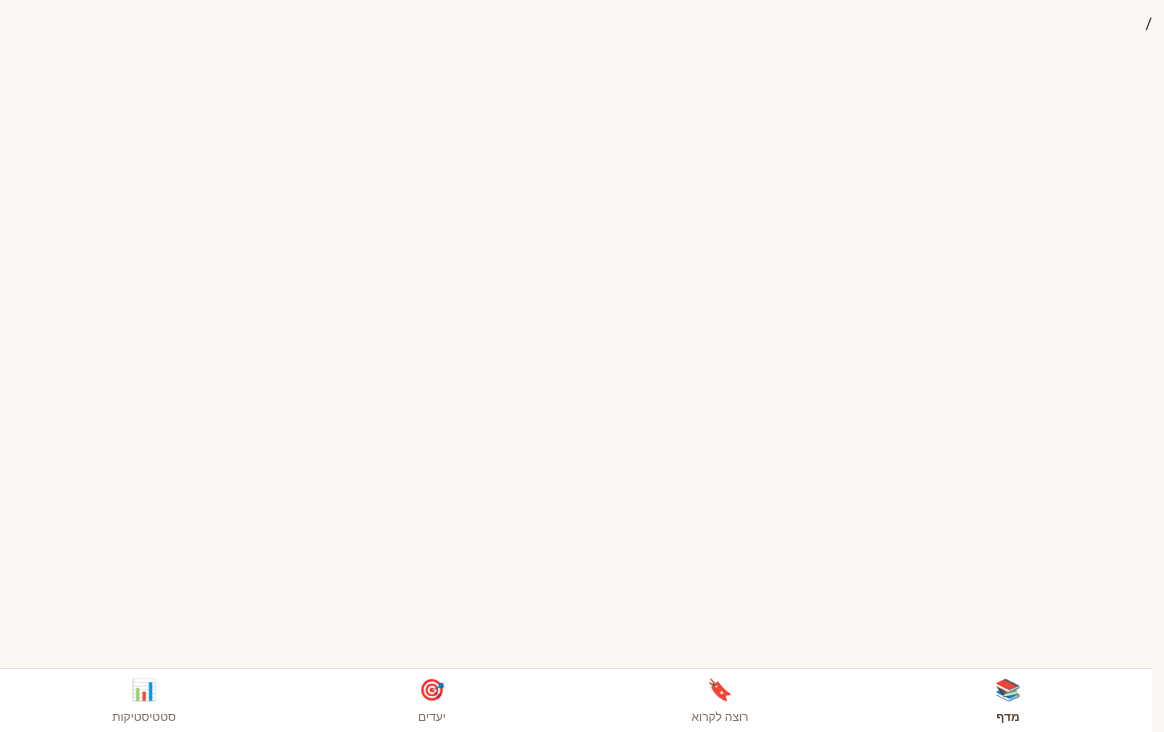
Test case: BottomNav › navigates to סטטיסטיקות
Click the link "📊 סטטיסטיקות" at (144, 700), box [112, 675, 176, 726]
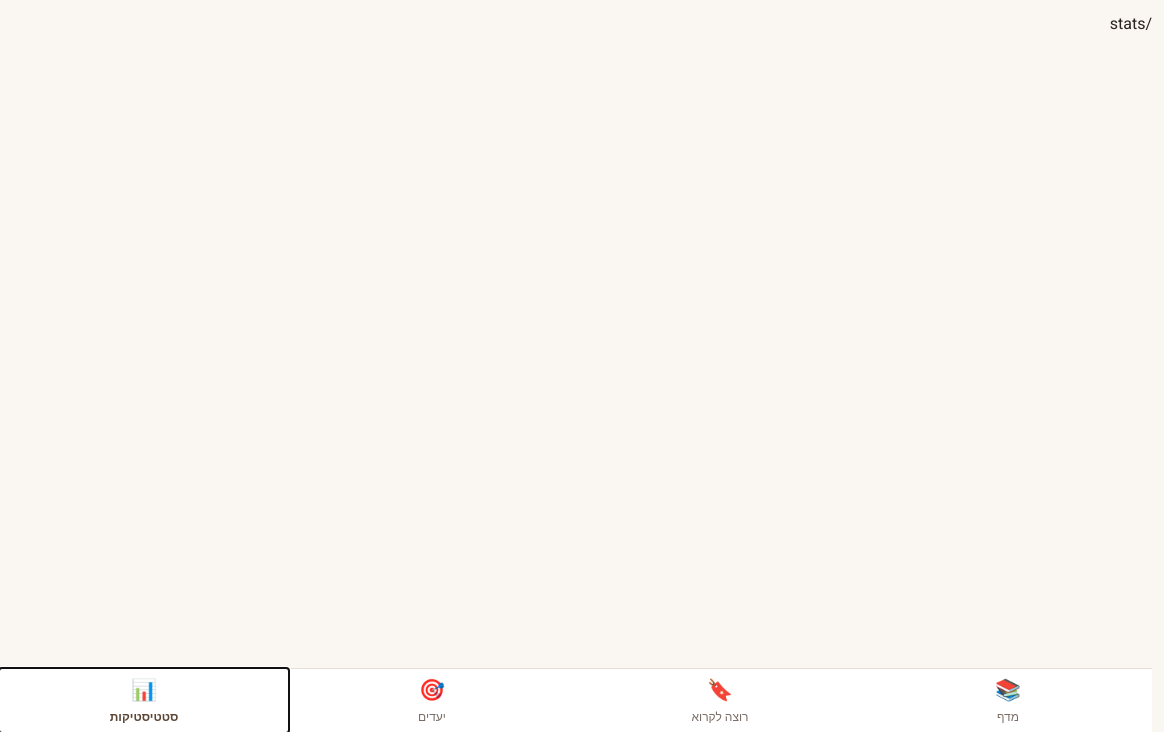
Result: the text with test id "location" reads "/stats" at [1110, 12, 1152, 36]
